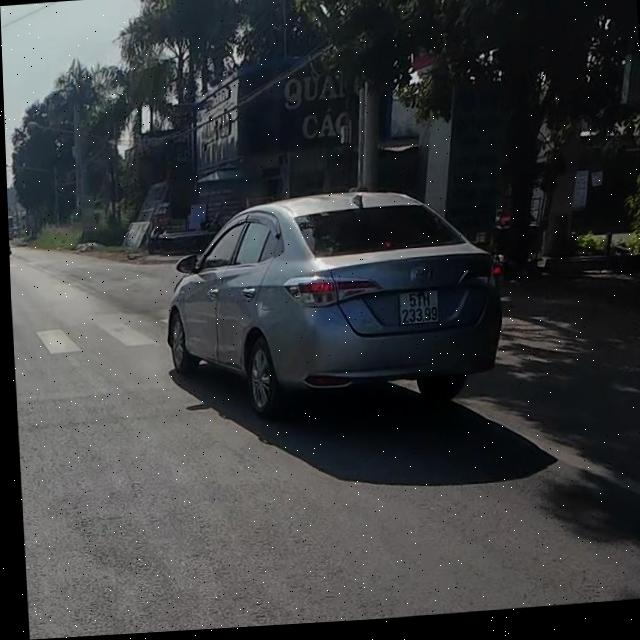car: (154, 179, 521, 434)
plate: (391, 281, 447, 328)
